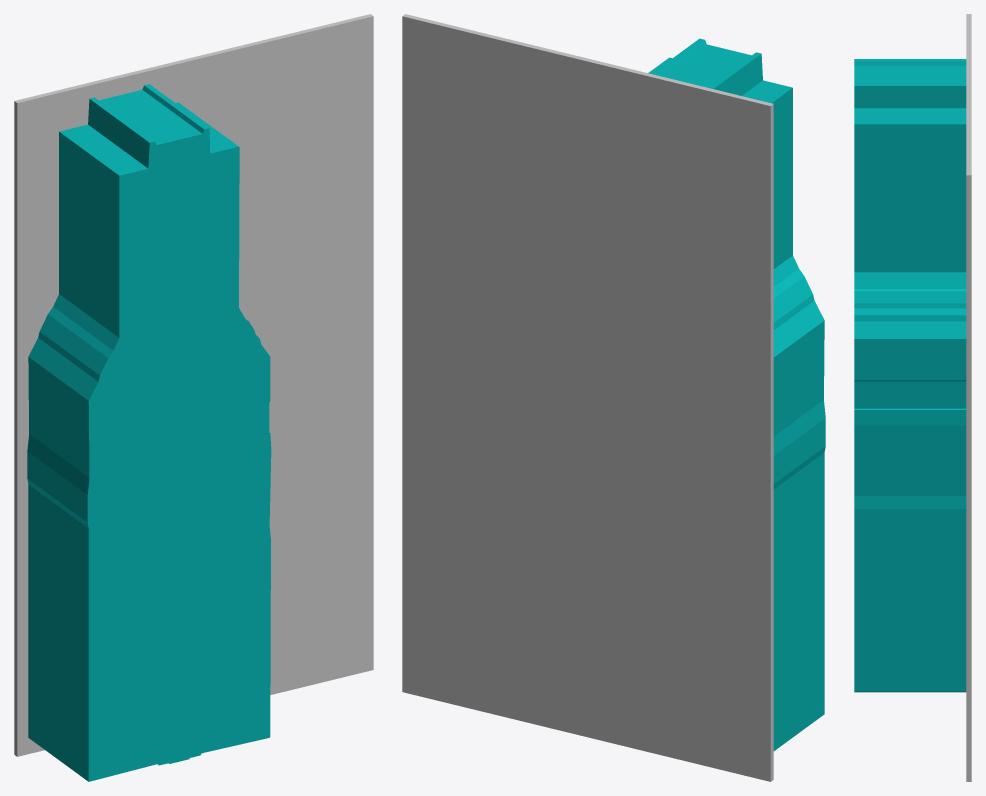
3 views of the same model, side by side, from view 1: azimuth 30°, elevation 25°; view 2: azimuth 150°, elevation 25°; view 3: azimuth 270°, elevation 25° (orthographic). The views are drawn at different scales.
Visible parts, largest first — view 1: world; view 2: world; view 3: world.
Part boxes in pixels (x1=…): world: x1=14, y1=14, x2=373, y2=781; world: x1=402, y1=14, x2=825, y2=781; world: x1=854, y1=14, x2=971, y2=781.
Bounding box in the file's own units: 10.23 × 17.93 × 3.15.
